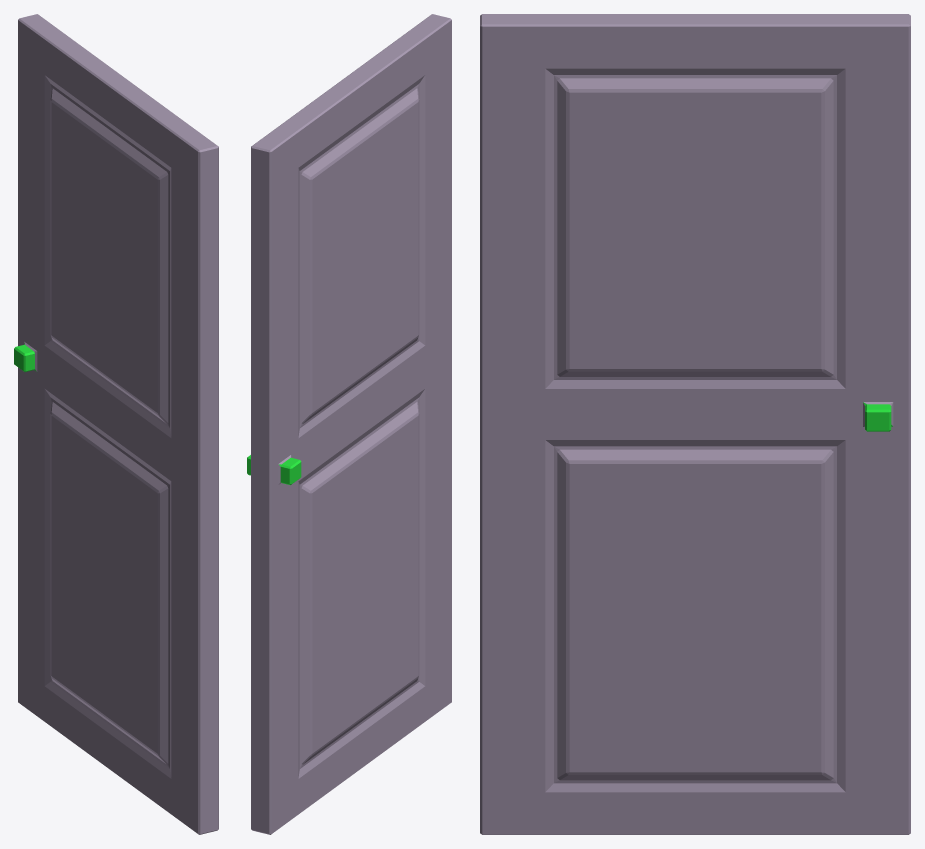
Rendered from Door.fbx.
3 views of the same model, side by side, from view 1: azimuth 30°, elevation 25°; view 2: azimuth 150°, elevation 25°; view 3: azimuth 270°, elevation 25° (orthographic). The views are drawn at different scales.
Visible parts, largest first — view 1: Door; view 2: Door; view 3: Door.
Boxes of the visible parts, left/top/right/bottom form: Door: left=14, top=14, right=218, bottom=834; Door: left=247, top=14, right=451, bottom=834; Door: left=480, top=14, right=910, bottom=834.
Bounding box in the file's own units: 0.1579 × 2.3 × 1.11.
